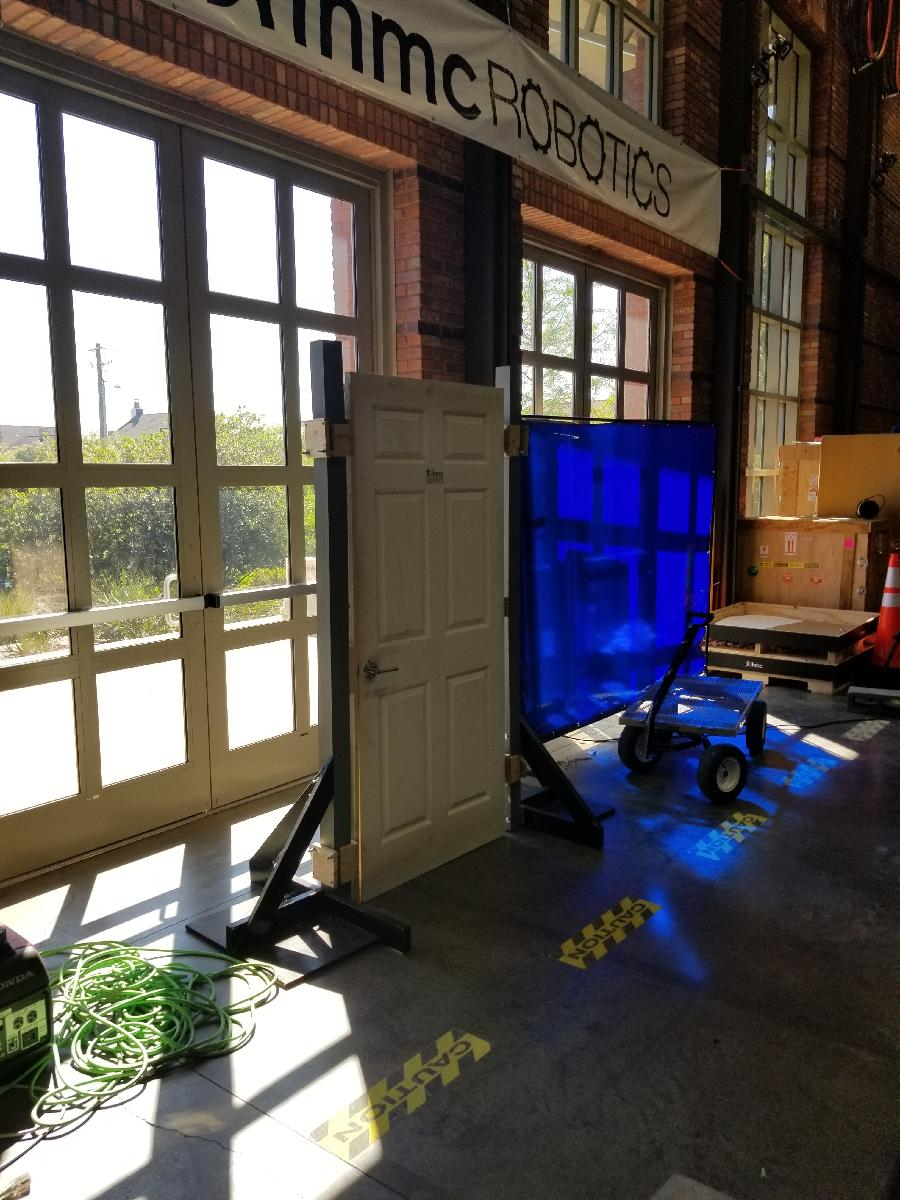door: (342, 370, 508, 910)
doorHandle: (360, 653, 402, 688)
